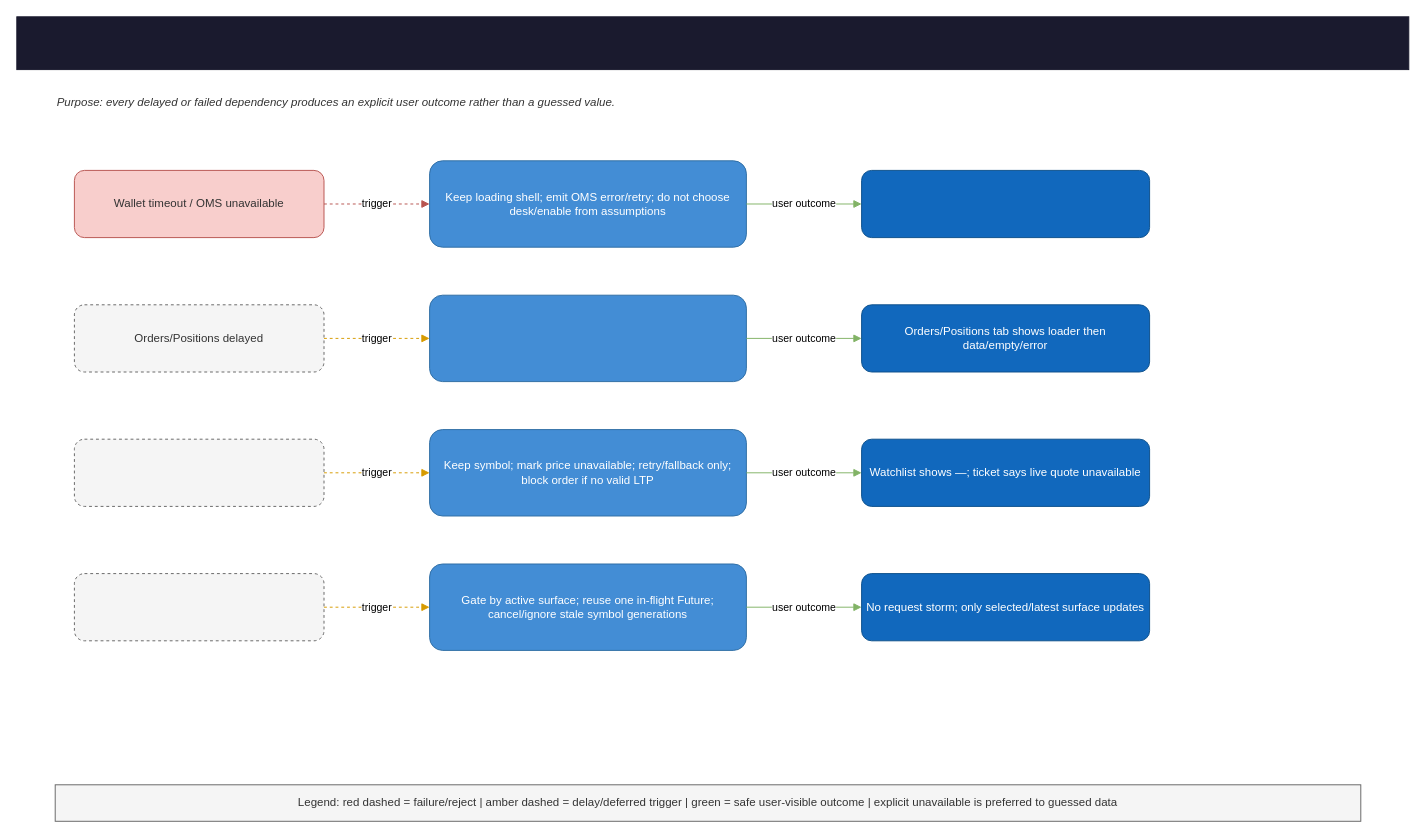
This 1426x838 diagram has some shape labels left out. The box of each missing label's shape, as (x1, y1, x2, y2) in pixels:
Desk remains usable; resource state stays loading; no empty claim: (429, 294, 746, 382)
Hidden analyser build / duplicate tab request: (73, 573, 324, 641)
LTP/quote miss or market closed: (73, 438, 324, 506)
Paper Trading Desk — Failure and Latency Outcomes: (16, 16, 1409, 70)
User sees explicit OMS unavailable state: (861, 169, 1150, 238)
